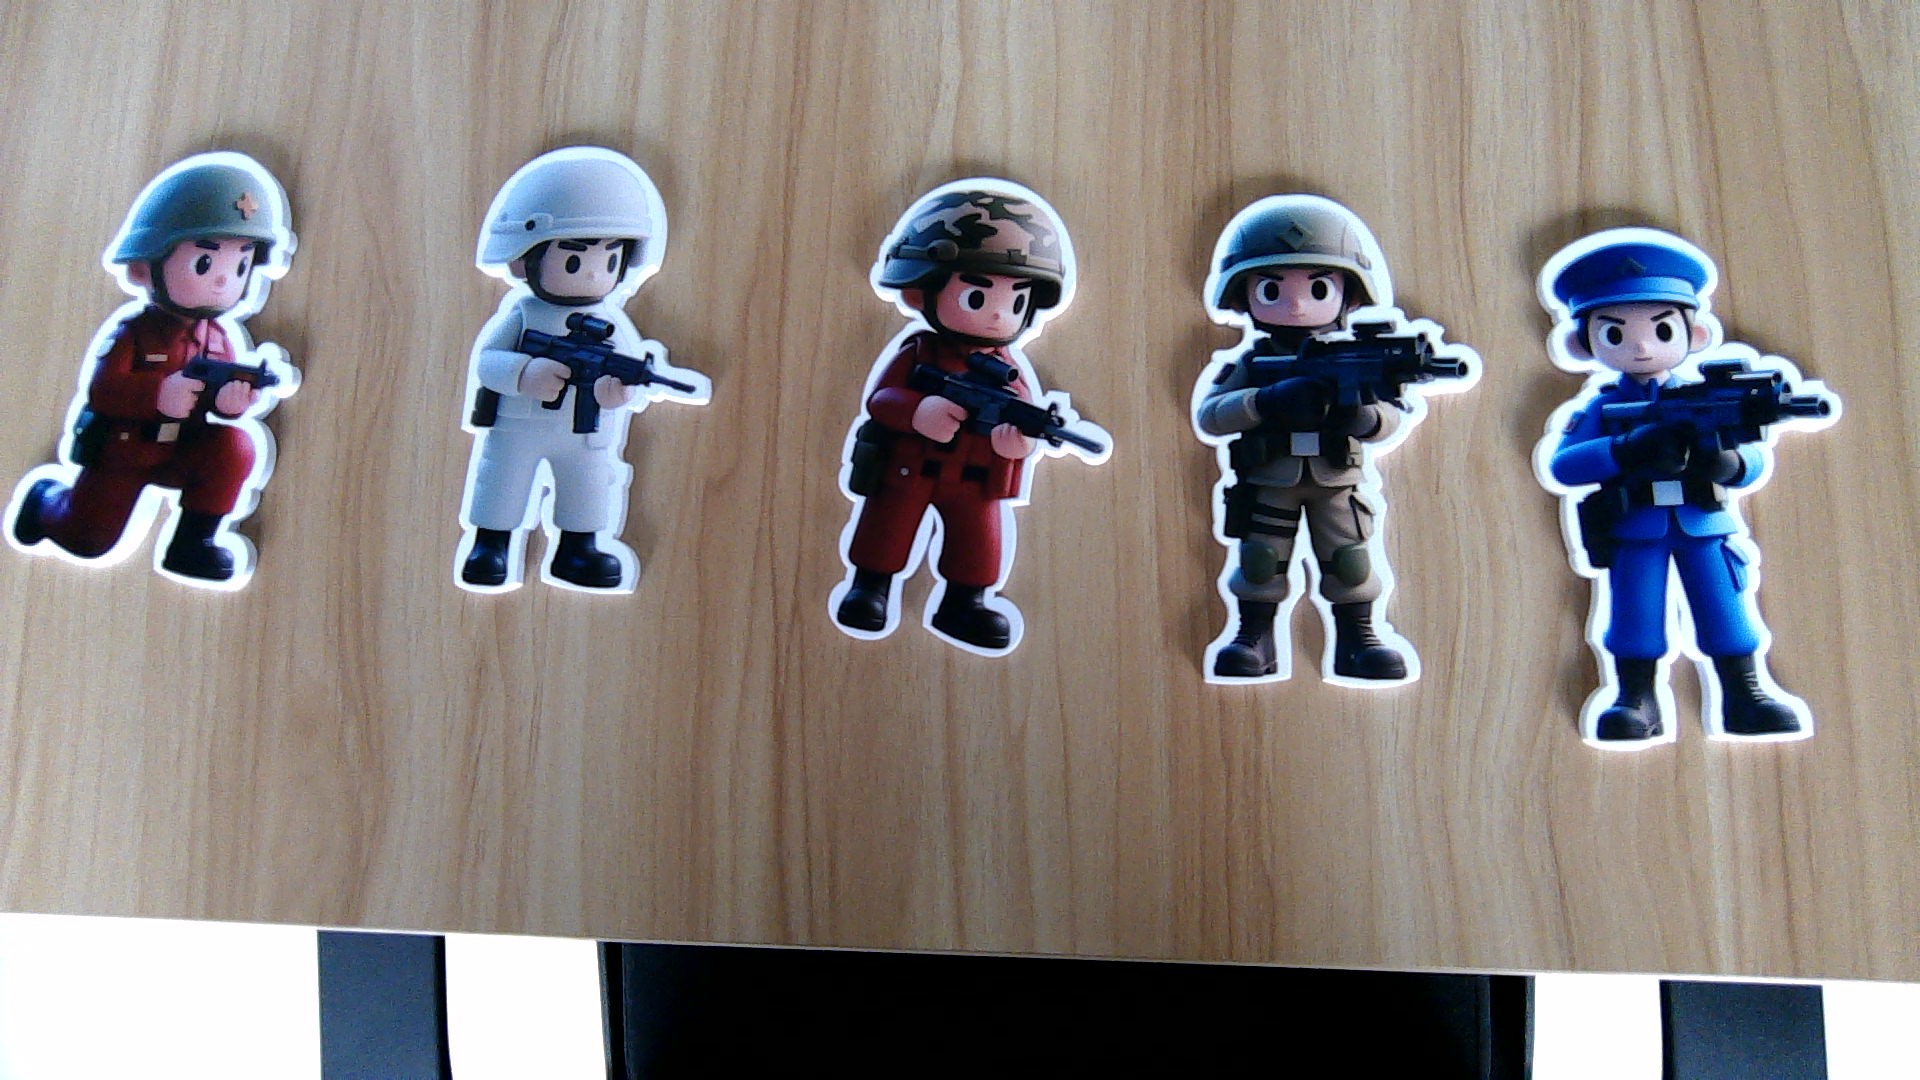人质: (452, 303, 707, 600)
友军: (1184, 339, 1481, 687)
敌人1: (824, 336, 1112, 663), (3, 306, 299, 600)
敌人2: (1532, 375, 1850, 760)
